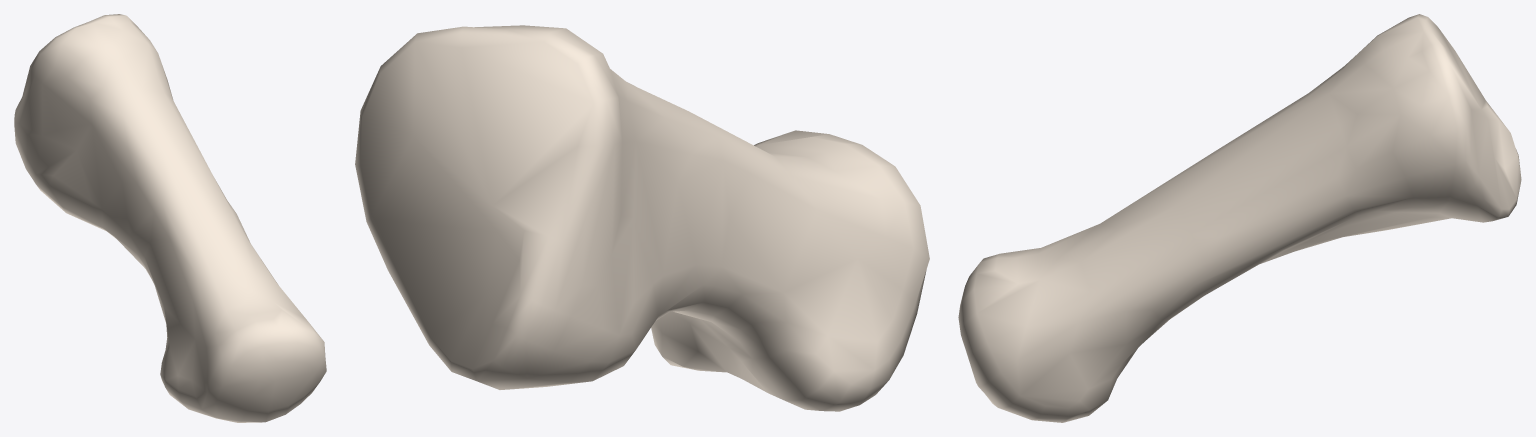
File: right_metatarsal_1.glb
3 renders of one model, left to right at view 1: azimuth 30°, elevation 25°; view 2: azimuth 150°, elevation 25°; view 3: azimuth 270°, elevation 25°, orthographic. The views are drawn at different scales.
Parts seen in each view (by area): view 1: First metatarsal bone.r; view 2: First metatarsal bone.r; view 3: First metatarsal bone.r.
Boxes of the visible parts, x1=… form: First metatarsal bone.r: x1=14, y1=14, x2=326, y2=422; First metatarsal bone.r: x1=355, y1=25, x2=929, y2=411; First metatarsal bone.r: x1=958, y1=14, x2=1521, y2=422.
Bounding box in the file's own units: 0.0204 × 0.0443 × 0.0607.
